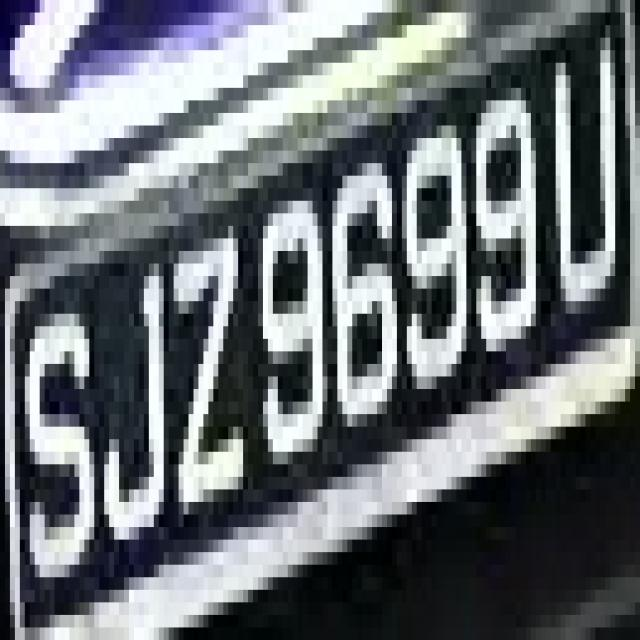6: (327, 126, 402, 389)
9: (456, 63, 551, 389), (243, 213, 323, 502), (392, 126, 471, 402)
J: (84, 226, 169, 565)
S: (15, 288, 99, 590)
U: (541, 50, 620, 314)
Z: (174, 226, 258, 552)
